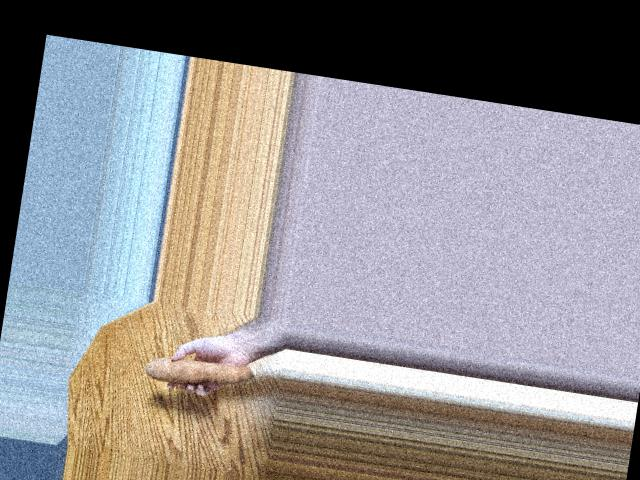sweet_potato: (138, 352, 252, 401)
